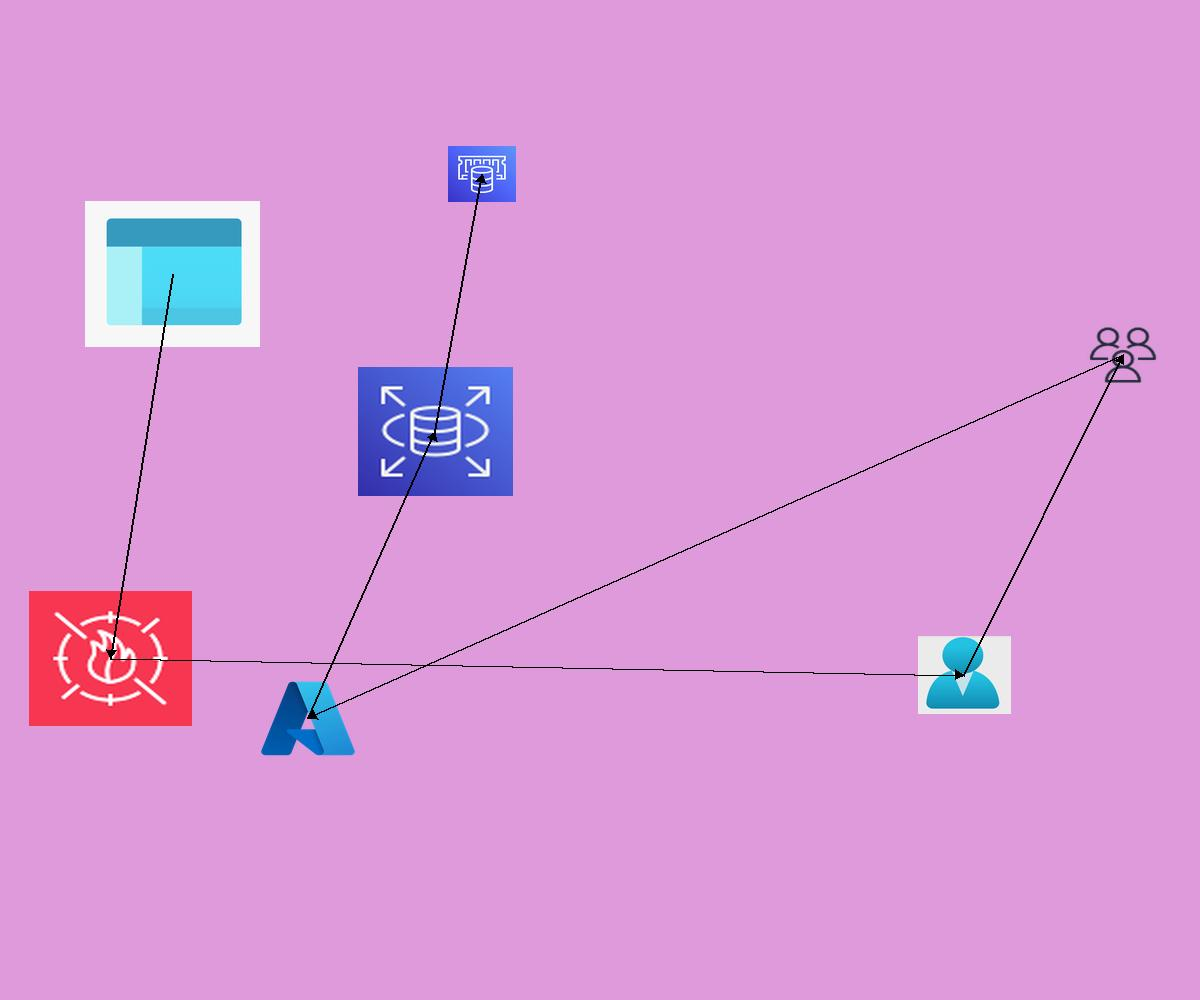AWS-ElastiCache: (448, 146, 516, 202)
AWS-RDS: (358, 367, 513, 496)
AWS-Res_Users: (1087, 325, 1159, 385)
AWS-WAF: (29, 591, 192, 726)
Azure_management-portal: (85, 201, 260, 347)
Azure_services: (257, 676, 359, 761)
Azure_users: (918, 636, 1011, 714)
